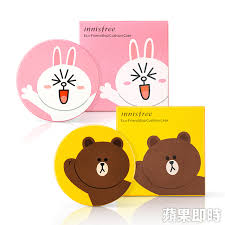line_brown: (139, 131, 203, 189), (71, 132, 132, 188)
